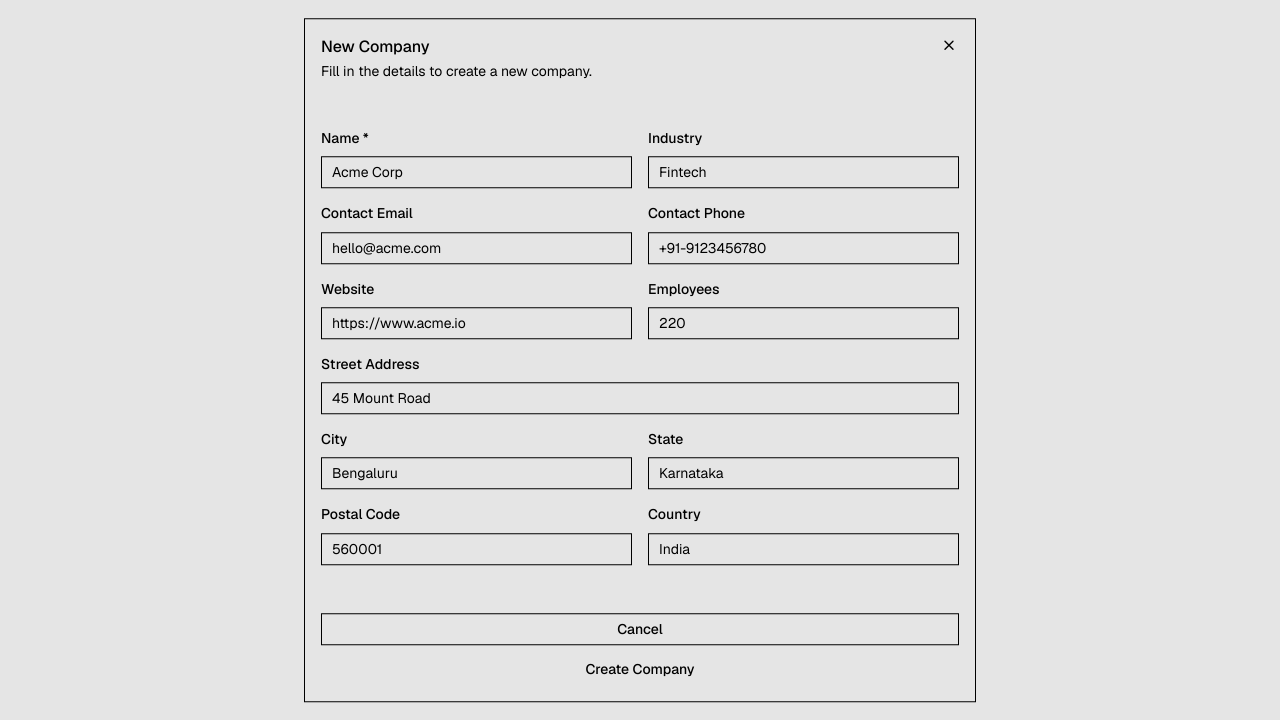
Scenario: CompanyFormSheet (create) › rejects an invalid email
Type "Acme" into the field labelled "Name *". click: (476, 172)
box: [321,156,632,188]
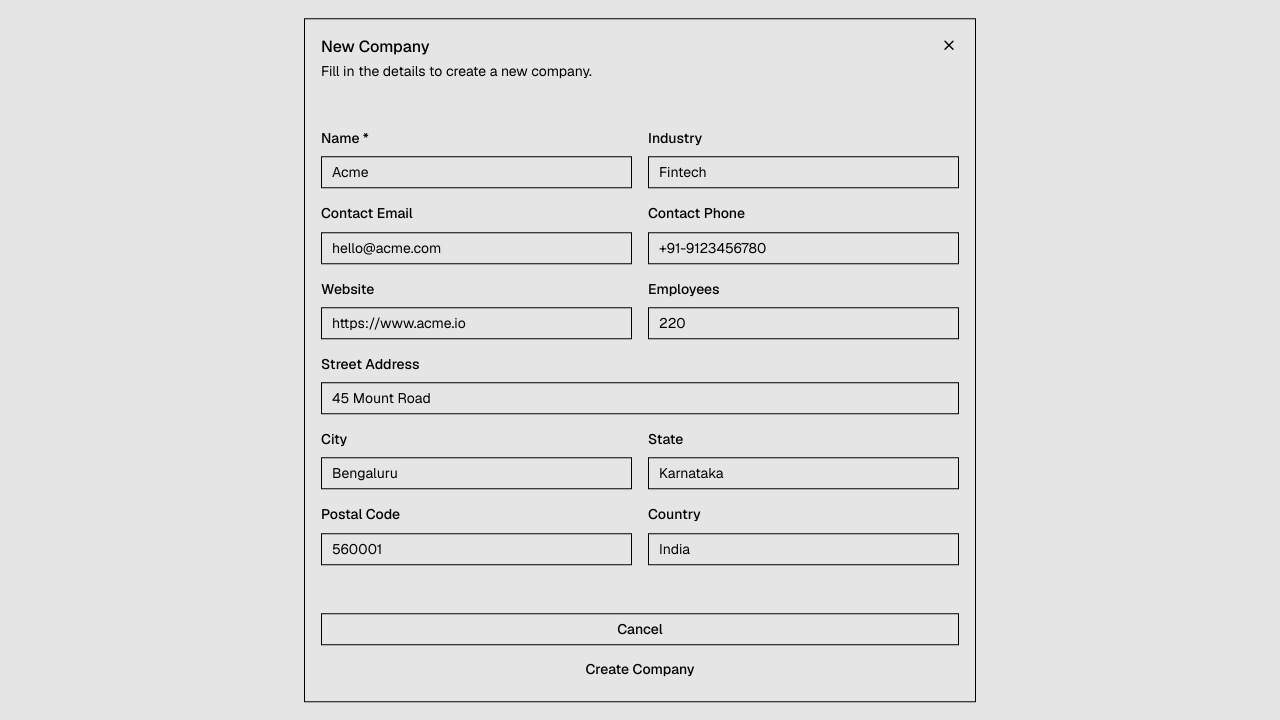
Type "nope" into the field labelled "Contact Email". click: (476, 248)
box: [321,232,632,264]
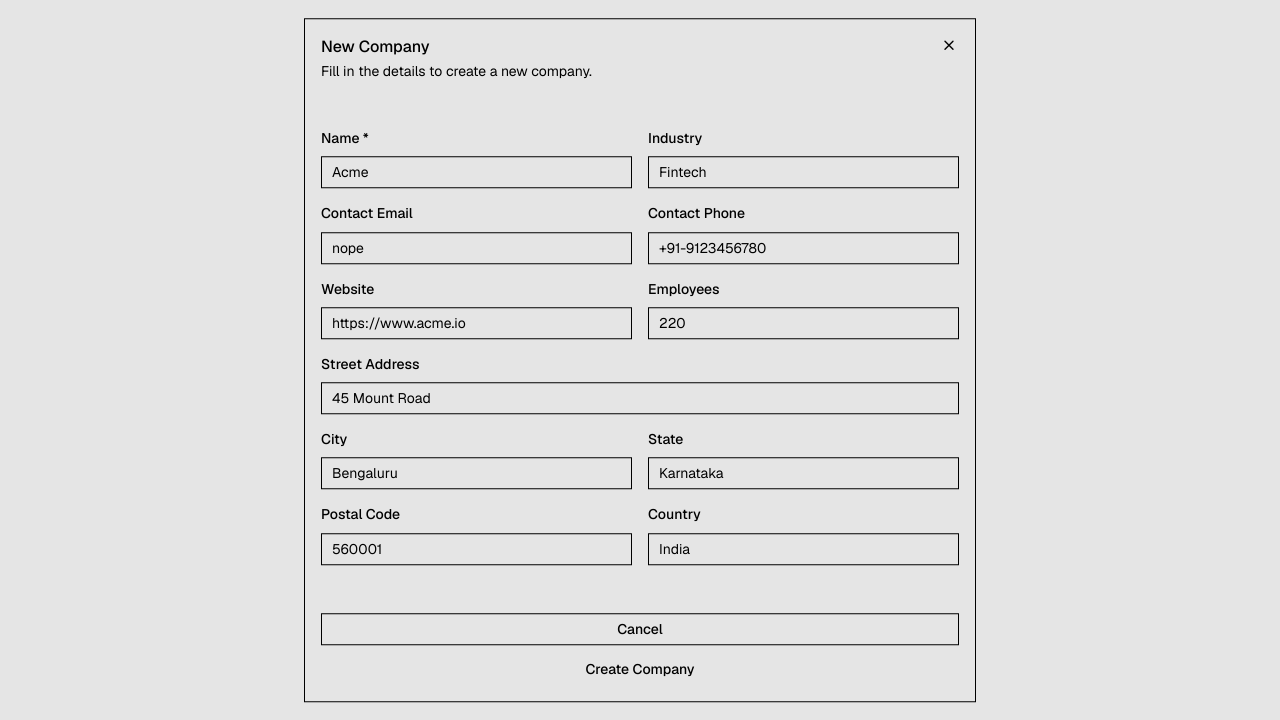
Submit the form, box [305,113,975,581]
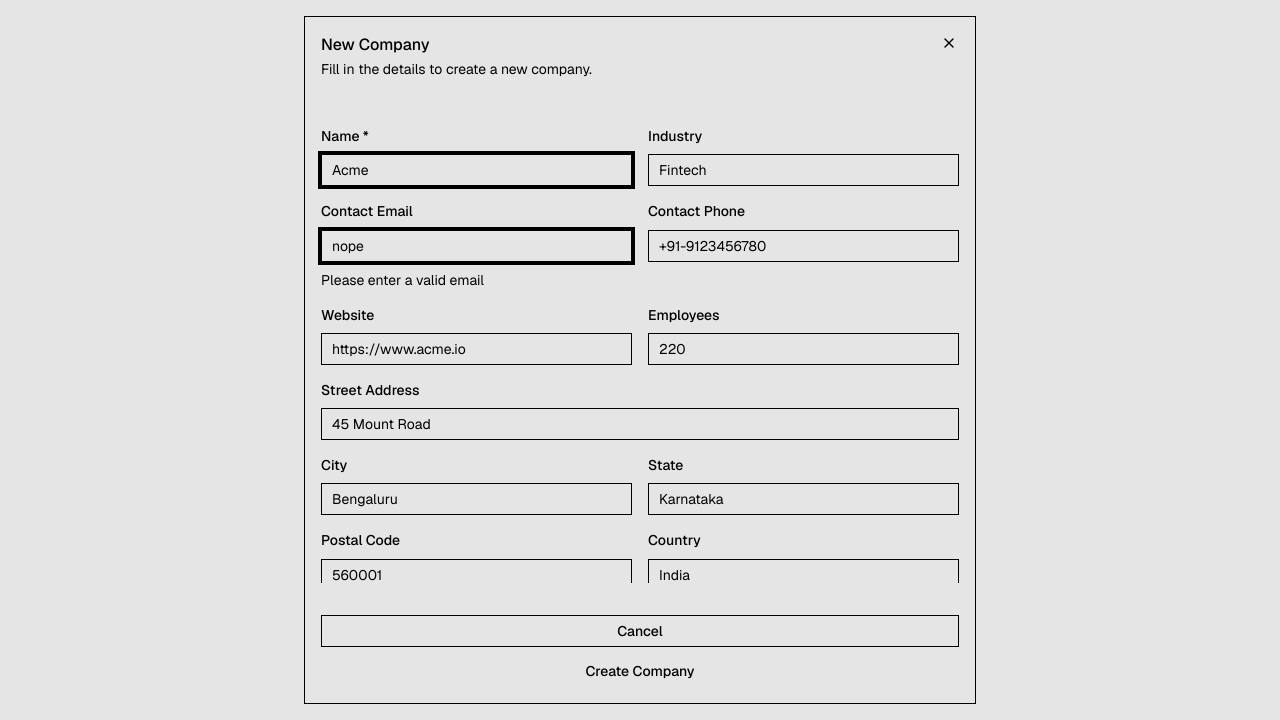
Expected: the text "Please enter a valid email" is shown, [321,270,484,288]
